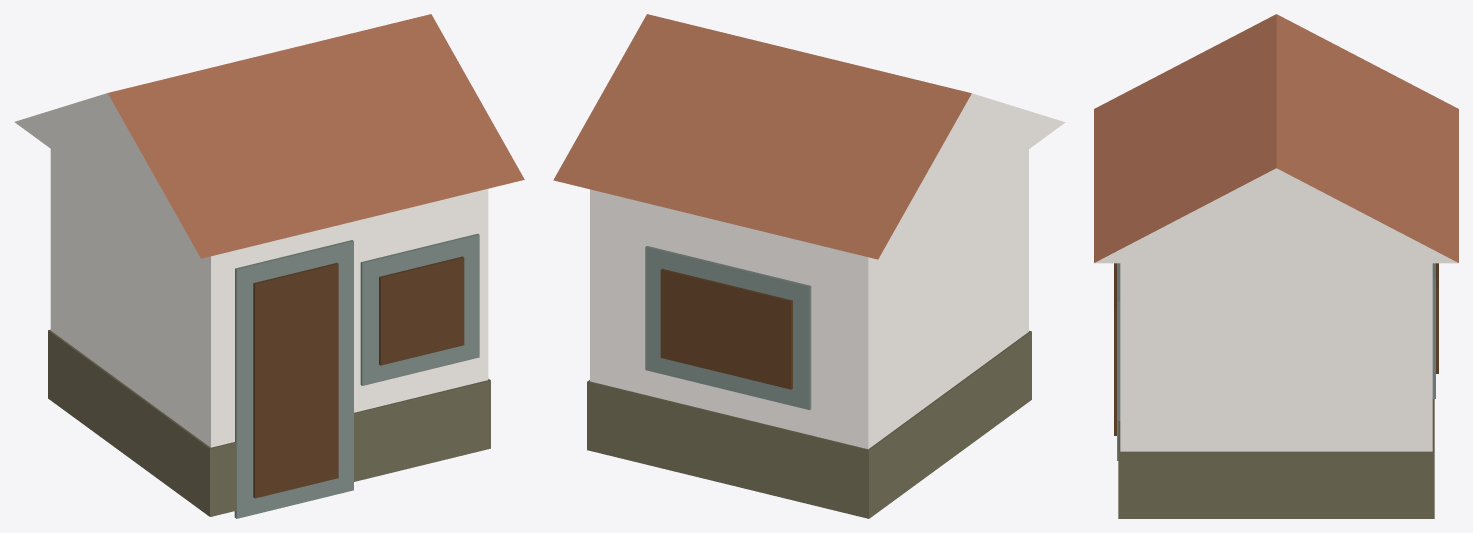
The model's file is SM_KitSueltas_v5_LOD0.fbx.
3 views of the same model, side by side, from view 1: azimuth 30°, elevation 25°; view 2: azimuth 150°, elevation 25°; view 3: azimuth 270°, elevation 25° (orthographic). The views are drawn at different scales.
Visible parts, largest first — view 1: SM_bloques.kit_sueltas_v5_LOD0; view 2: SM_bloques.kit_sueltas_v5_LOD0; view 3: SM_bloques.kit_sueltas_v5_LOD0.
Part boxes in pixels (x1,y1,x2,y2): SM_bloques.kit_sueltas_v5_LOD0: (14,14,524,518); SM_bloques.kit_sueltas_v5_LOD0: (553,14,1065,518); SM_bloques.kit_sueltas_v5_LOD0: (1094,14,1458,518).
Bounding box in the file's own units: 3.48 × 3.88 × 3.48.
